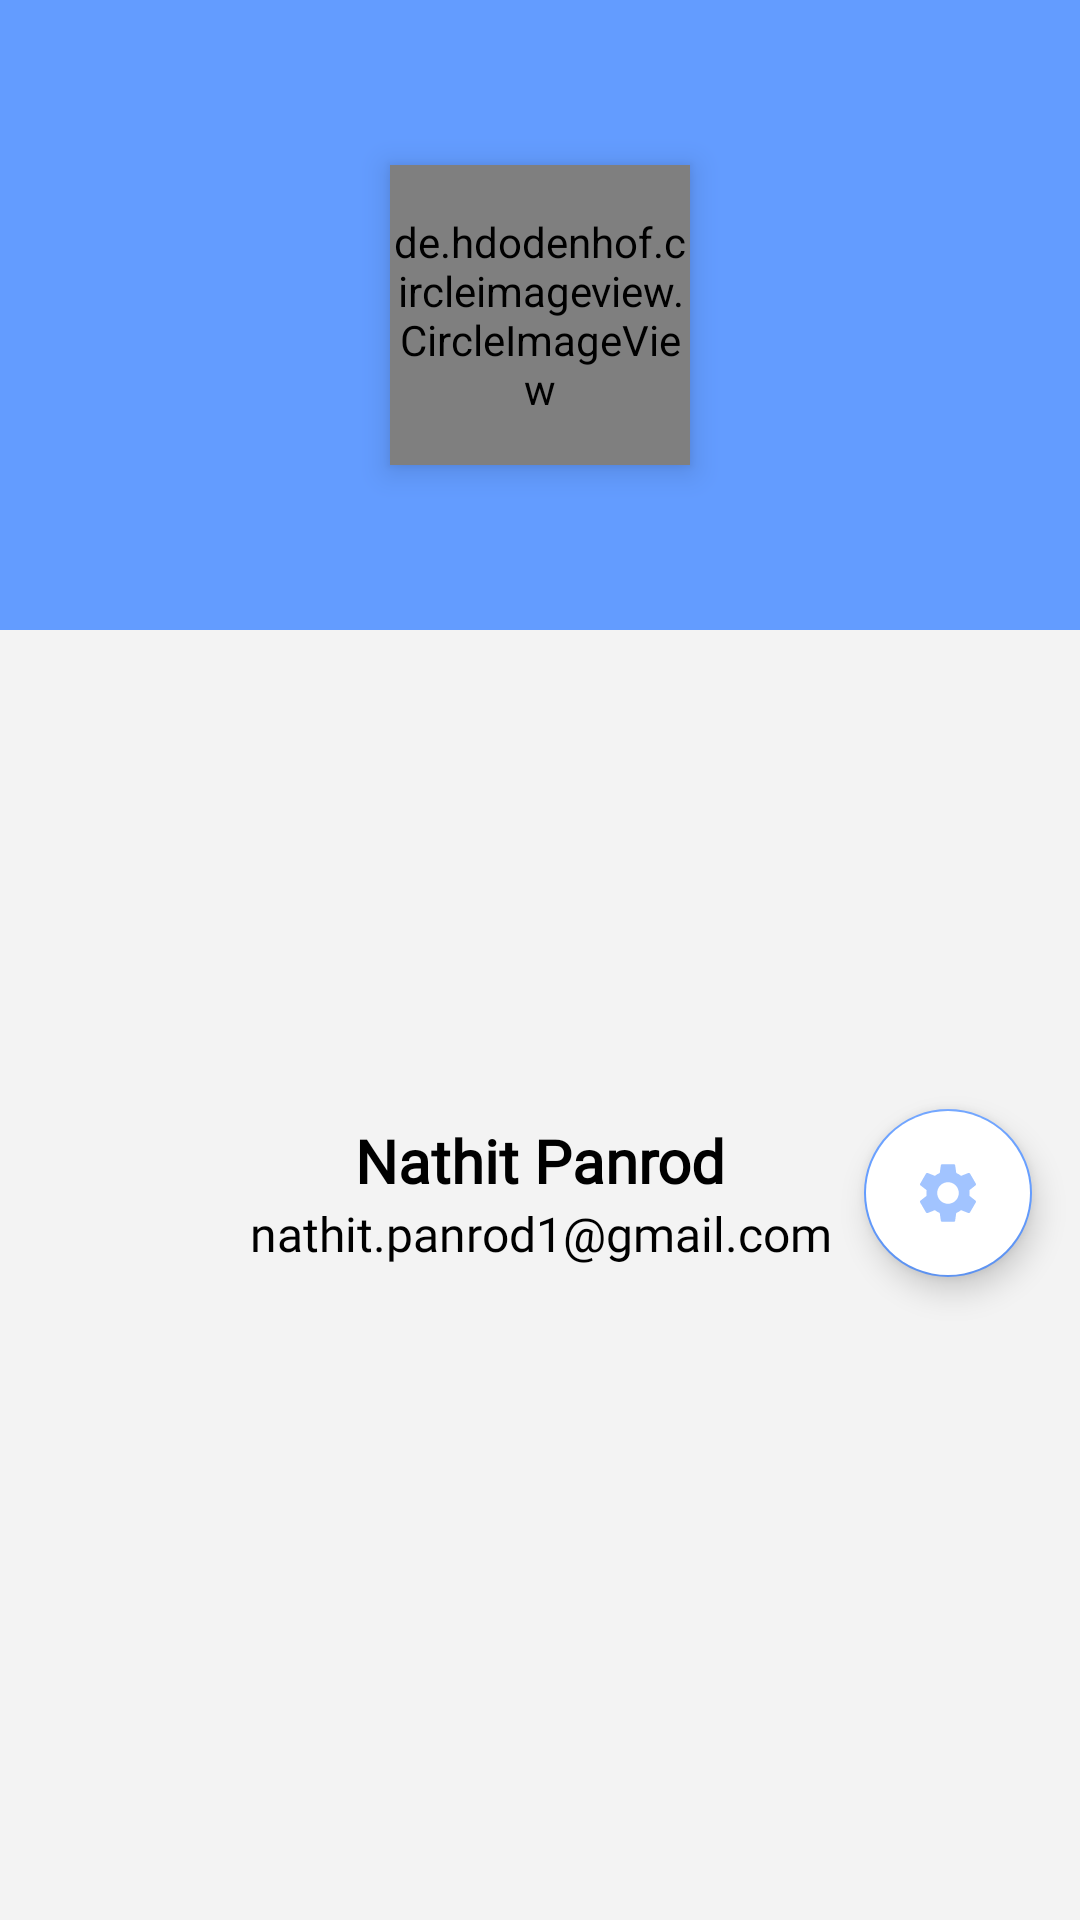

Screen size 1080 × 1920. Icon name, then its center in pixels as (x,y):
settings: (948,1193)
